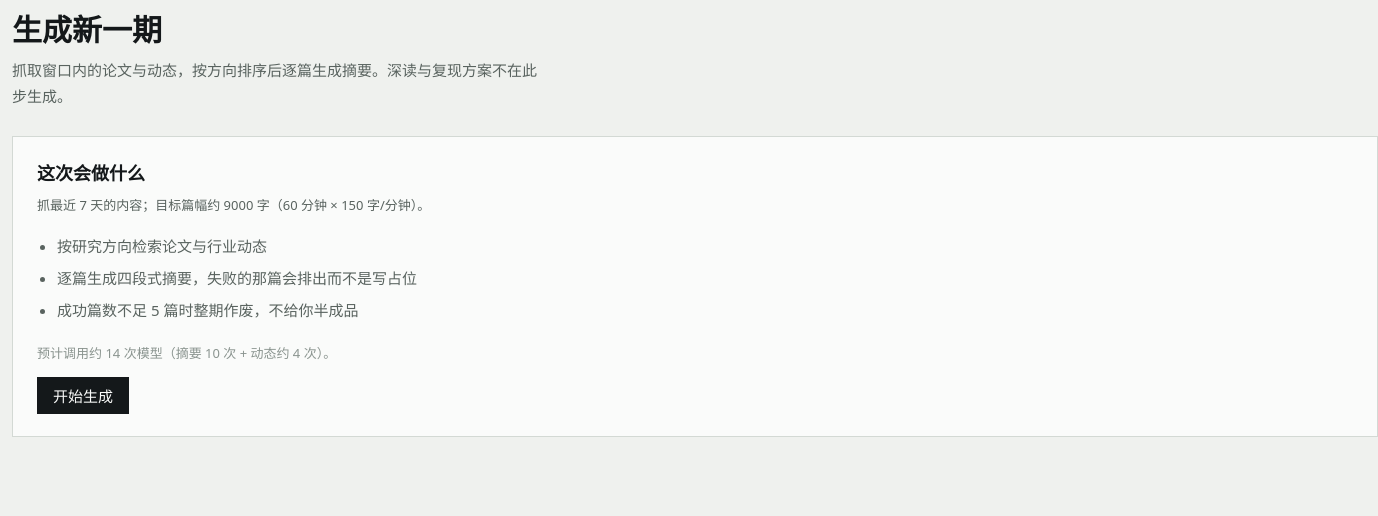
Scenario: GeneratePage › 没有 key 时提示去设置而不是干等
The width and height of the screenshot is (1378, 516).
Click the button "开始生成" at (83, 396), box [37,377,129,414]
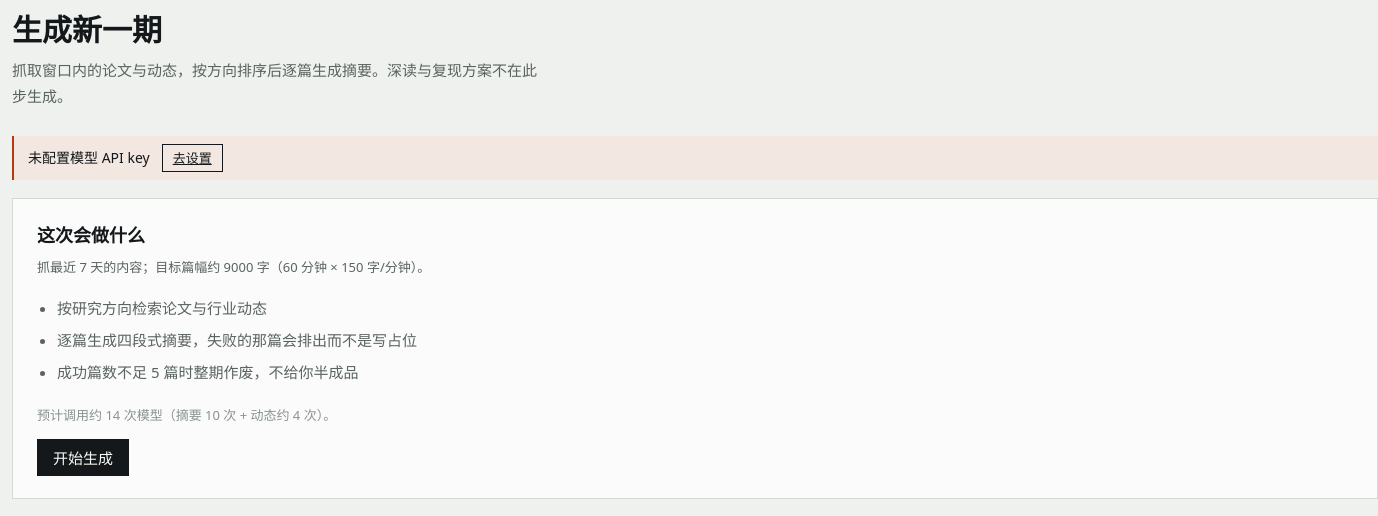
Check: the text "未配置模型 API key 去设置" is shown, box [12,136,1377,180]
